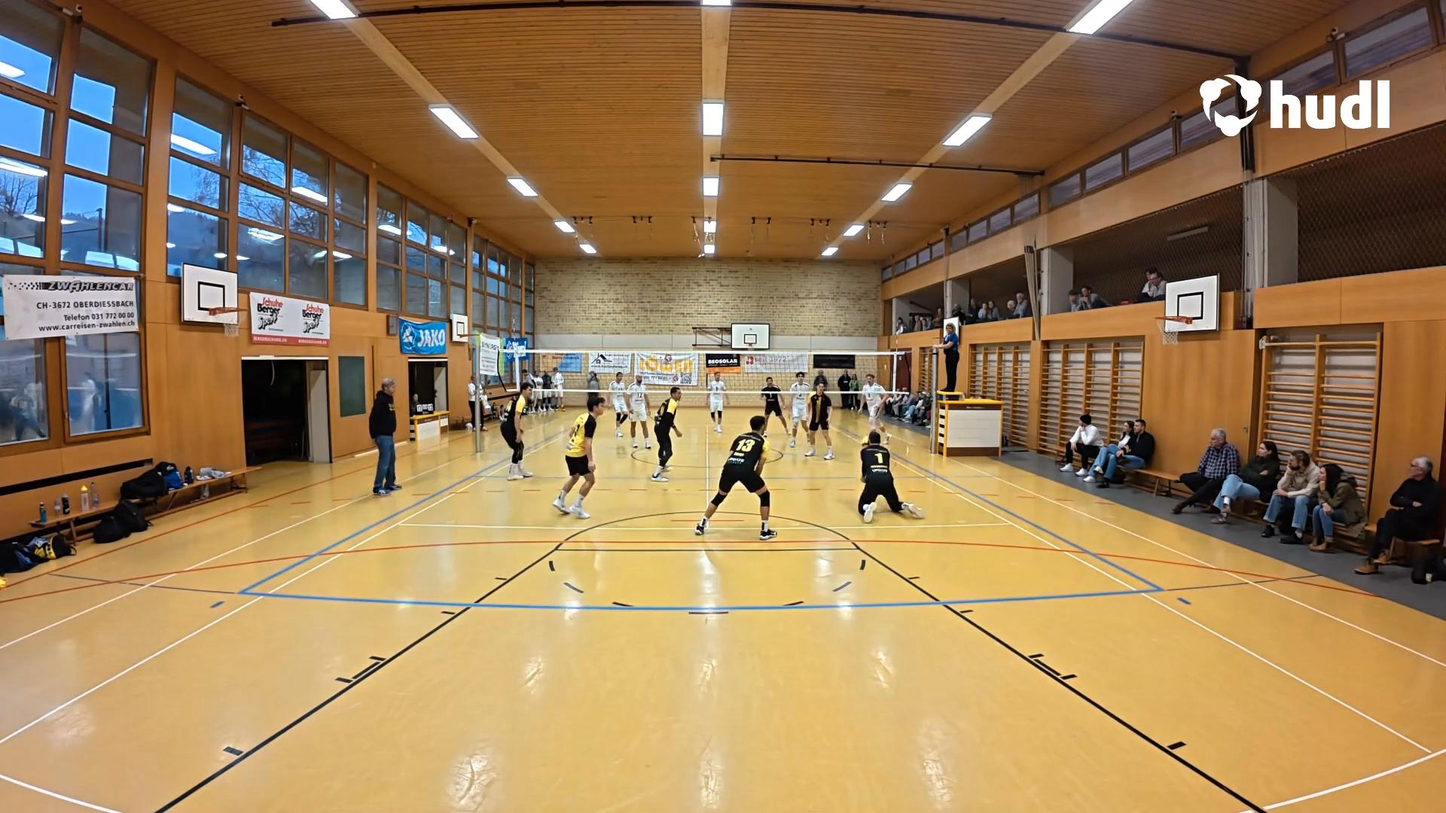Dig: (850, 428, 919, 522)
Player: (694, 413, 775, 537), (554, 397, 606, 518), (496, 381, 536, 481), (651, 384, 685, 480), (854, 374, 896, 442), (803, 375, 833, 459), (624, 370, 652, 453), (602, 372, 631, 437), (788, 372, 812, 447), (759, 376, 786, 437), (705, 372, 729, 434)
ball: (858, 433, 873, 450)
